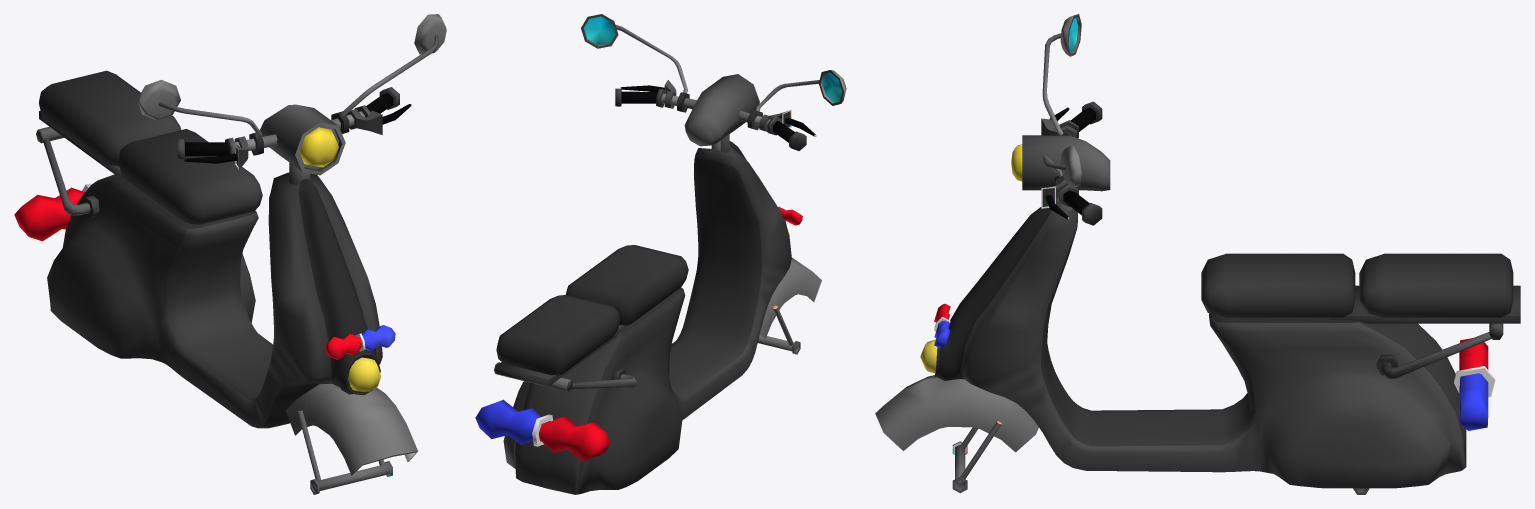
Rendered from Police_Motorcycle_Body_1.fbx.
3 renders of one model, left to right at view 1: azimuth 30°, elevation 25°; view 2: azimuth 150°, elevation 25°; view 3: azimuth 270°, elevation 25°, orthographic. The views are drawn at different scales.
Parts seen in each view (by area): view 1: Police_Motorcycle_Body_1; view 2: Police_Motorcycle_Body_1; view 3: Police_Motorcycle_Body_1.
Part boxes in pixels (bbox=[...]): Police_Motorcycle_Body_1: bbox=[14, 14, 446, 494]; Police_Motorcycle_Body_1: bbox=[475, 14, 846, 494]; Police_Motorcycle_Body_1: bbox=[875, 14, 1520, 494].
Bounding box in the file's own units: 107 × 132 × 196.
1 material, 1 textured.
